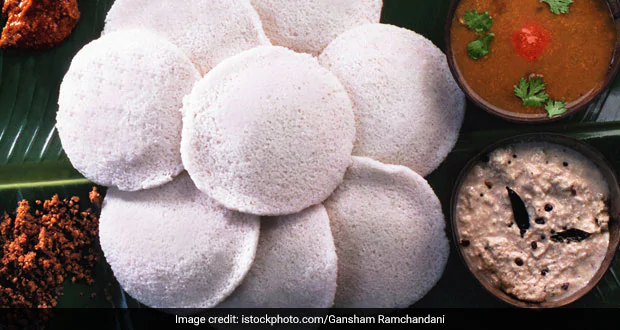chutney: (456, 145, 618, 306)
idli: (180, 45, 357, 216), (55, 32, 210, 194), (96, 159, 262, 309), (313, 24, 464, 182), (307, 159, 448, 308), (103, 1, 267, 101), (228, 192, 339, 308), (248, 1, 386, 53)
